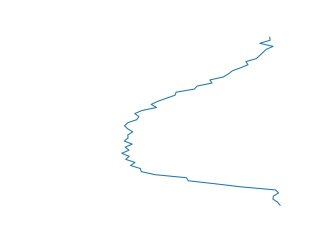underwaterDistributaryChannel: (114, 37, 285, 209)
